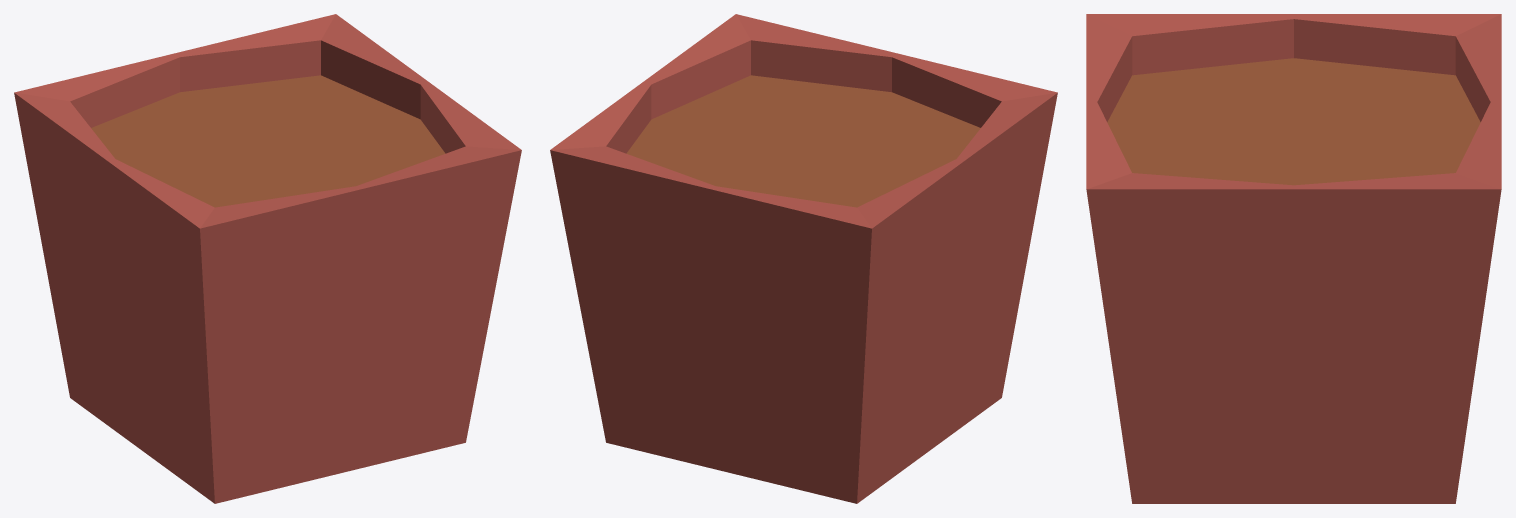
The model's file is Pot de fleur.fbx.
3 renders of one model, left to right at view 1: azimuth 30°, elevation 25°; view 2: azimuth 150°, elevation 25°; view 3: azimuth 270°, elevation 25°, orthographic. The views are drawn at different scales.
Visible parts, largest first — view 1: Cube; view 2: Cube; view 3: Cube.
Boxes of the visible parts, x1,y1,x2,y2 form: Cube: (14,14,521,503); Cube: (550,14,1057,503); Cube: (1086,14,1501,503).
Bounding box in the file's own units: 257 × 228 × 257.
